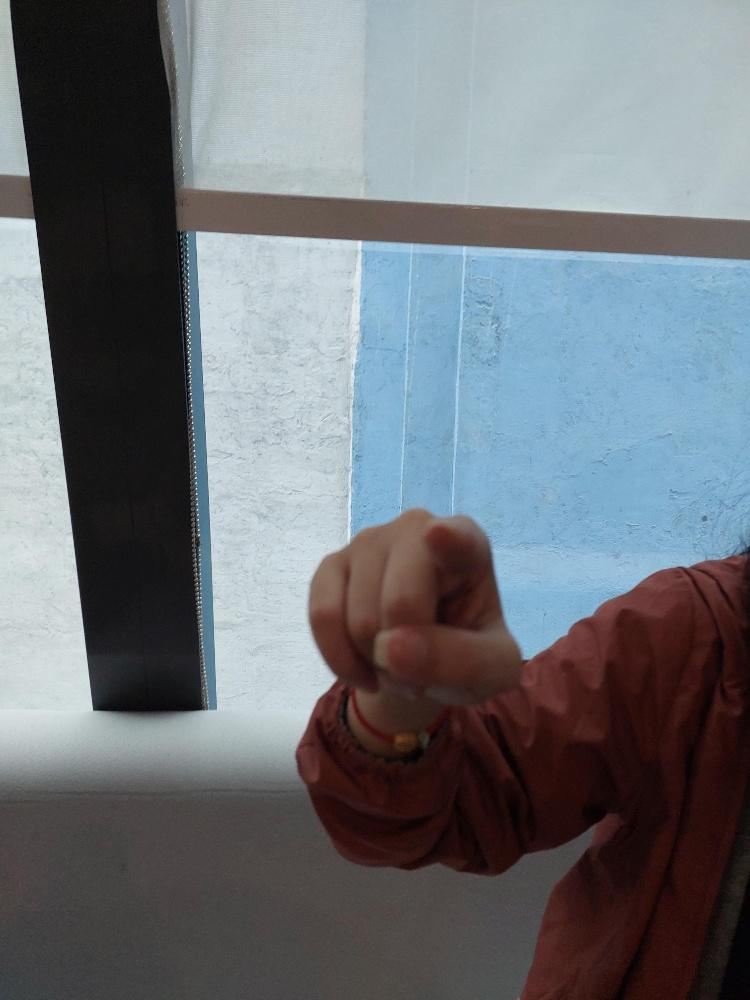z: (301, 504, 531, 721)
